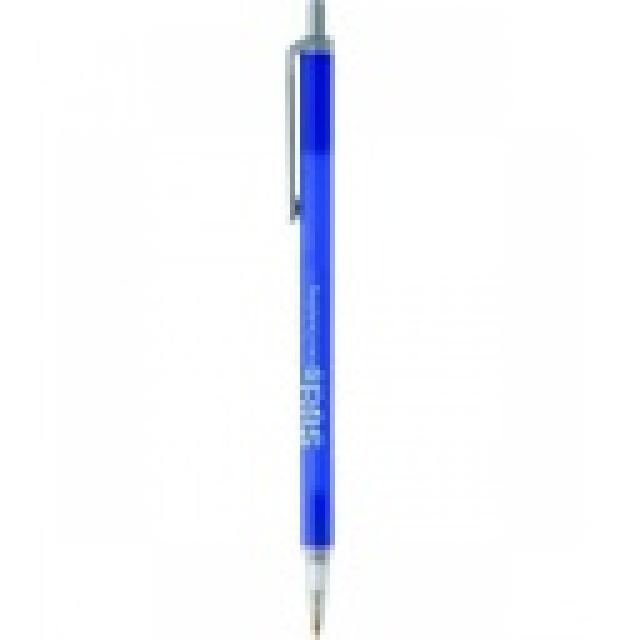pen: (271, 7, 348, 633)
